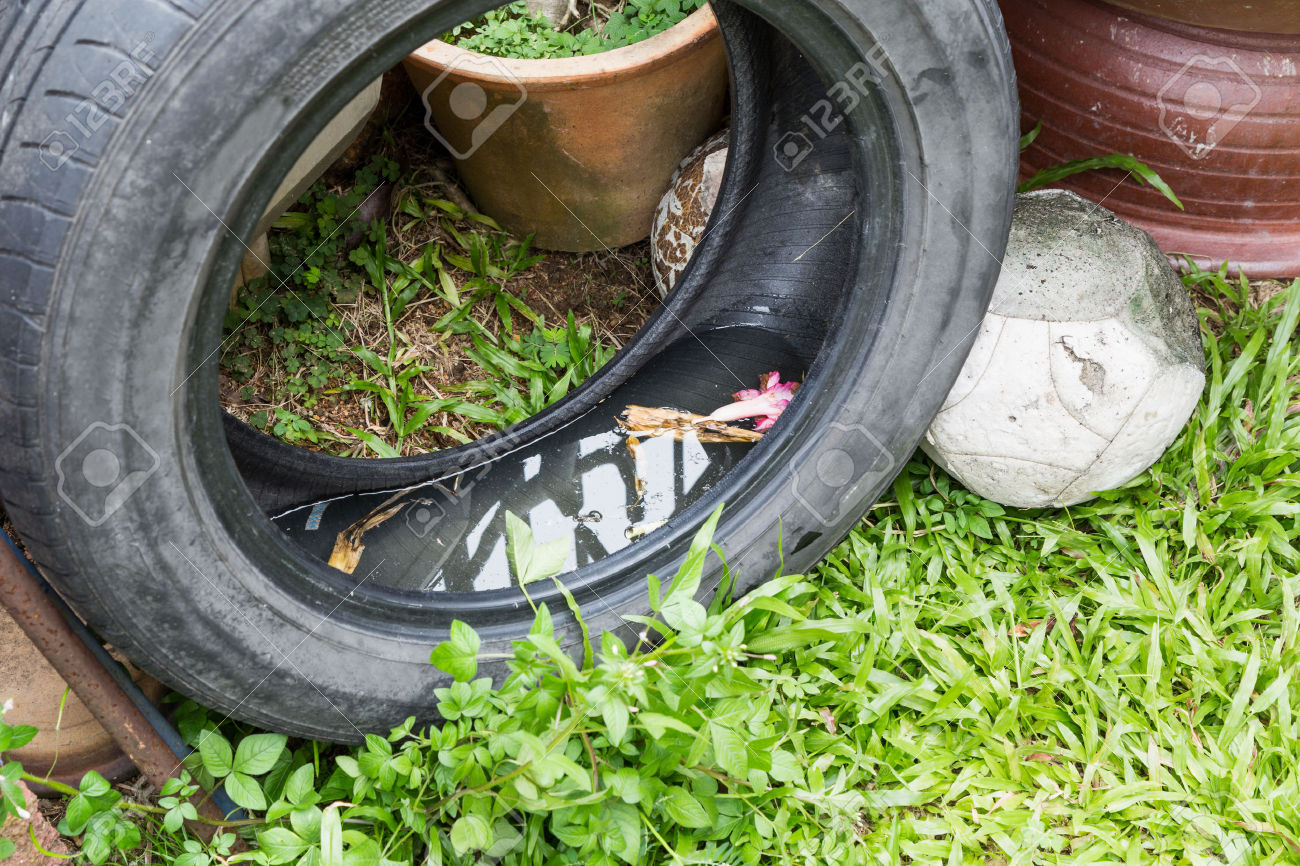tire: (1, 1, 1021, 742)
